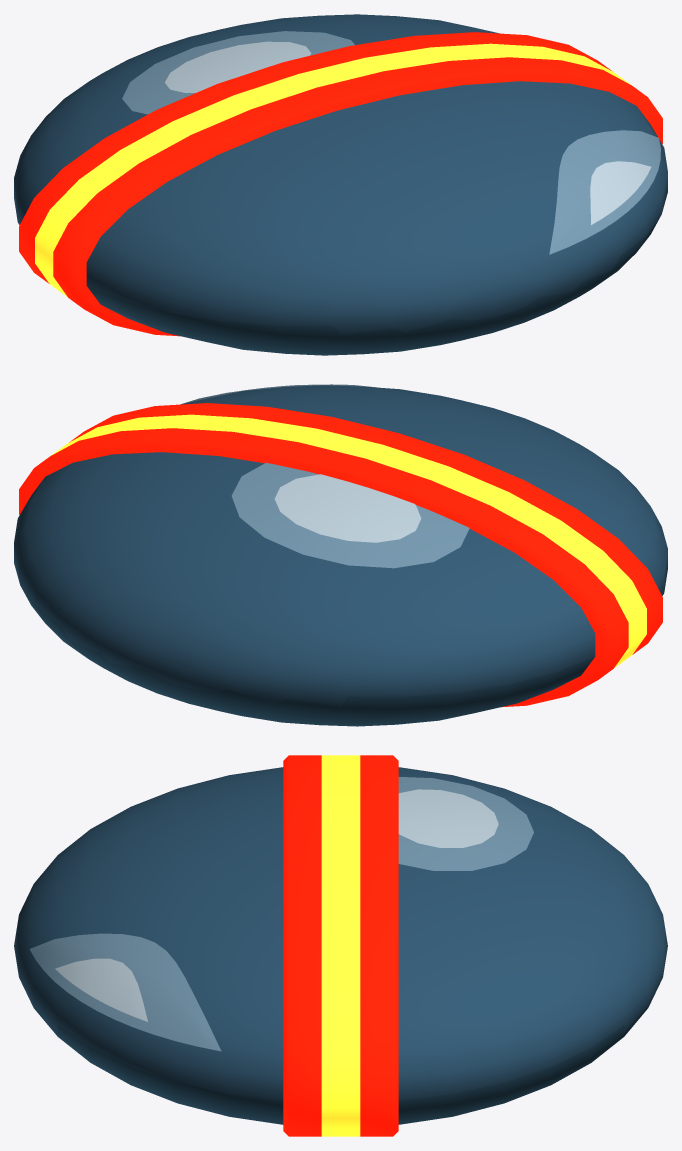
Rendered from newshe-13.glb.
The picture shows the model from 3 angles, top to bottom: view 1: azimuth 30°, elevation 25°; view 2: azimuth 150°, elevation 25°; view 3: azimuth 270°, elevation 25°; orthographic projection. The views are drawn at different scales.
Parts seen in each view (by area): view 1: newshe-13; view 2: newshe-13; view 3: newshe-13.
Boxes of the visible parts, x1,y1,x2,y2 form: newshe-13: (14, 14, 667, 355); newshe-13: (14, 384, 667, 726); newshe-13: (14, 755, 667, 1136).
Size of the model in its own units: 1.54 by 0.5581 by 1.42.
